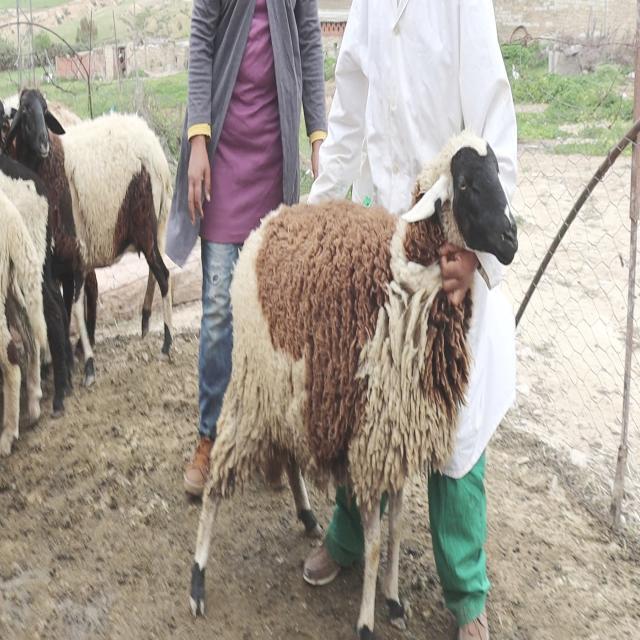Score_5: (190, 130, 517, 639)
